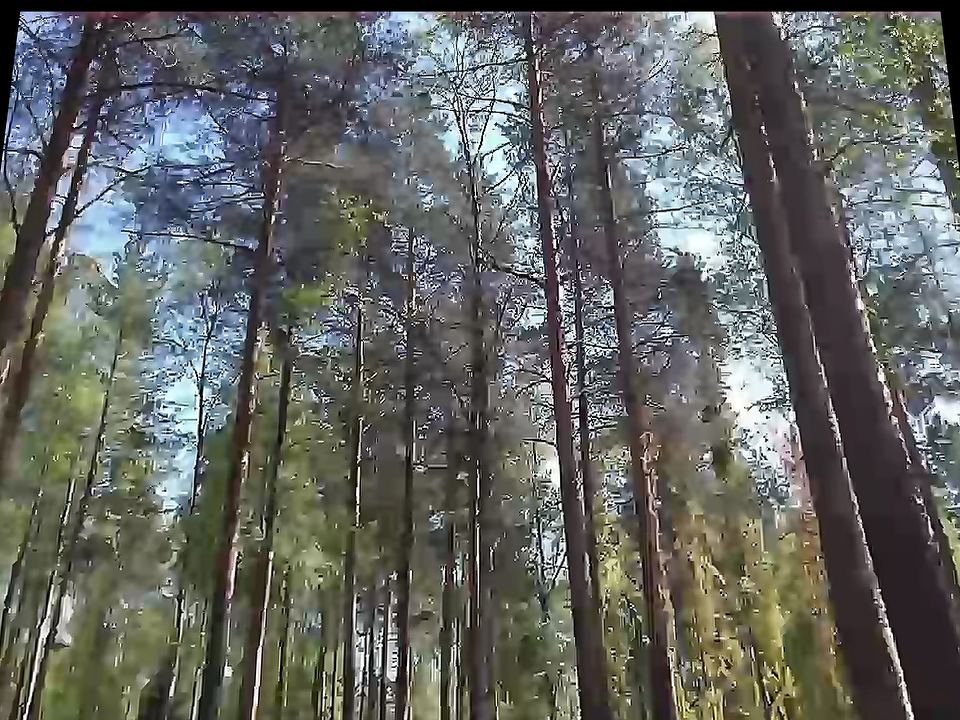branch: (118, 217, 251, 255), (130, 74, 278, 105), (621, 141, 702, 164), (296, 150, 351, 177), (626, 199, 699, 219), (518, 432, 555, 453)
trunk: (547, 359, 607, 704), (199, 407, 255, 646), (392, 410, 424, 699)
